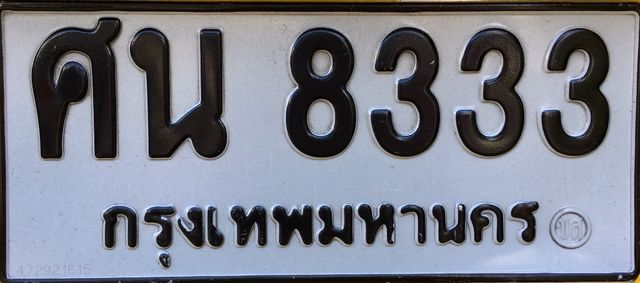Bangkok: (97, 182, 544, 272)
